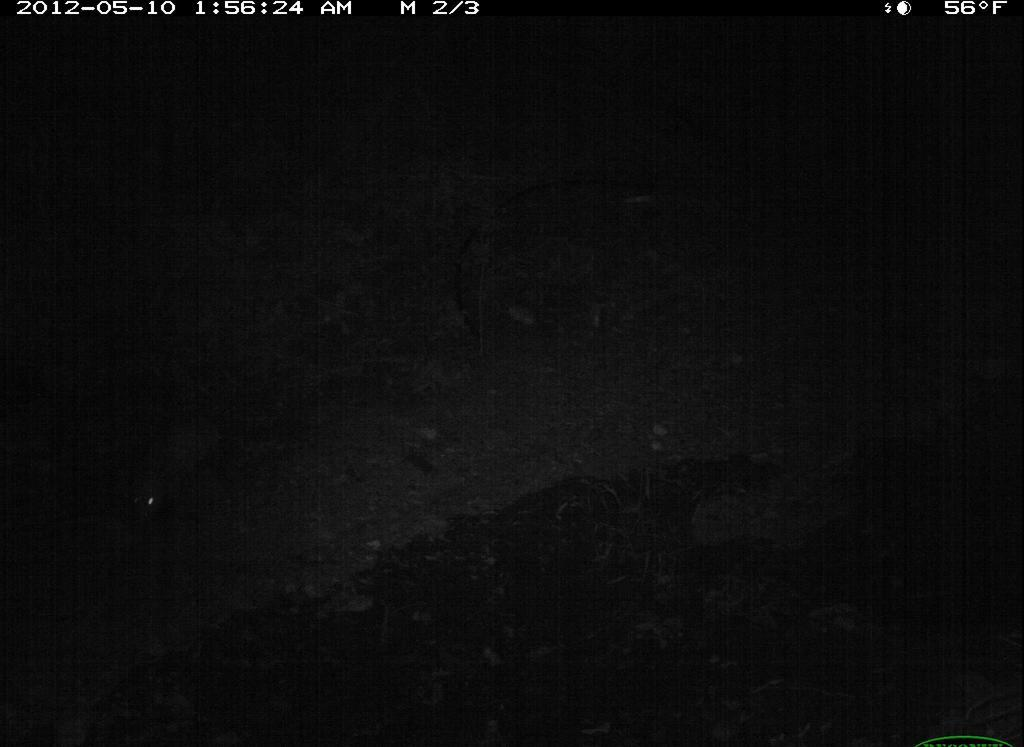opossum: (120, 406, 276, 543)
